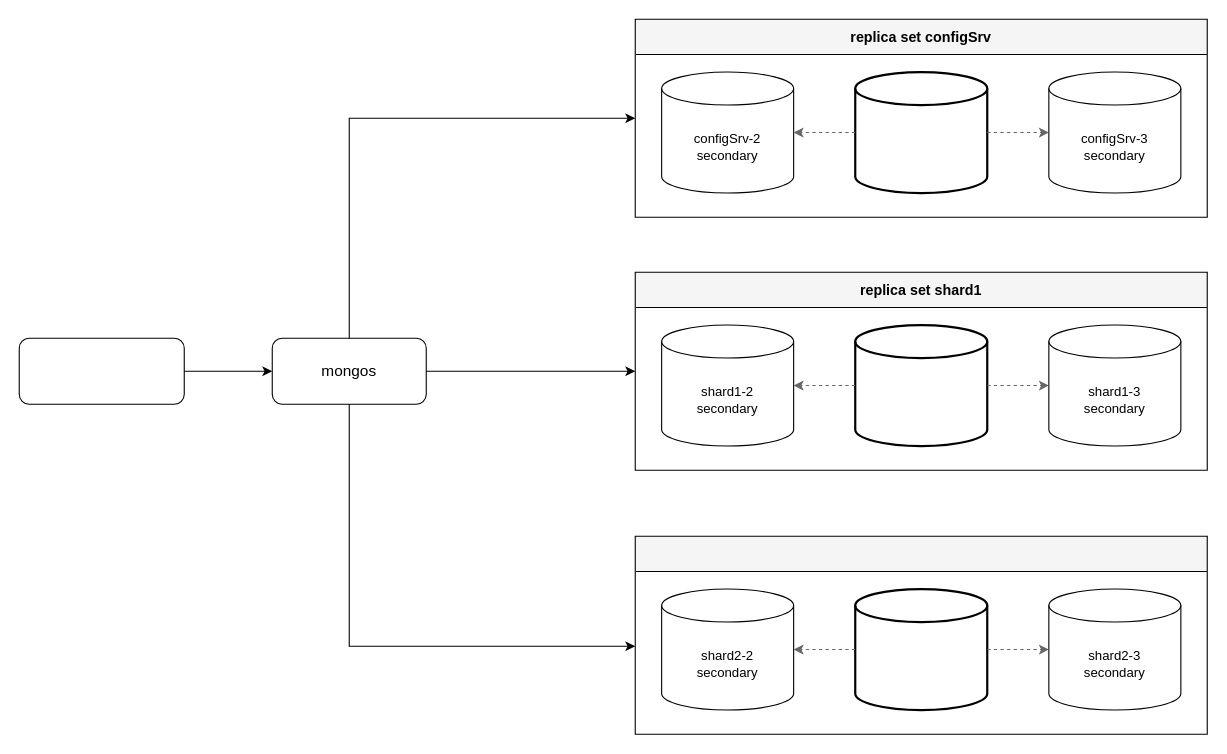
This 1227x754 diagram has some shape labels left out. Here are the shapes that lost their labels. From the top down, the box of each, then its label:
(854, 70, 988, 194): configSrv-1 primary
(18, 337, 184, 404): pymongo-api
(854, 323, 988, 447): shard1-1 primary
(634, 535, 1207, 734): replica set shard2
(854, 587, 988, 711): shard2-1 primary
